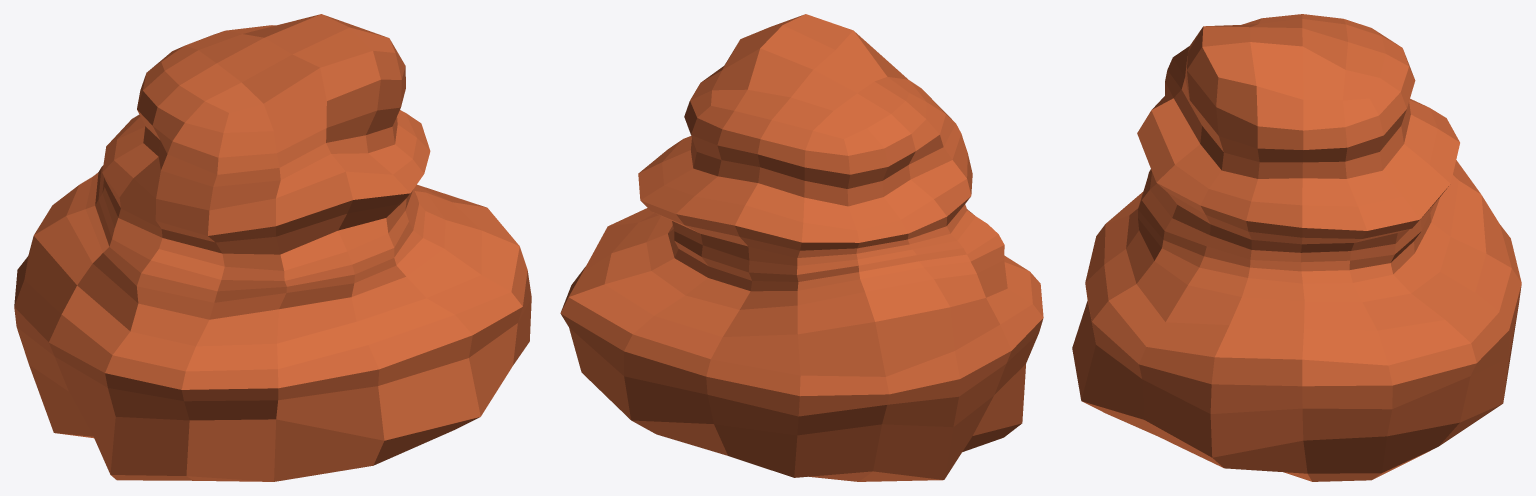
File: stone6.fbx
3 views of the same model, side by side, from view 1: azimuth 30°, elevation 25°; view 2: azimuth 150°, elevation 25°; view 3: azimuth 270°, elevation 25° (orthographic). The views are drawn at different scales.
Parts seen in each view (by area): view 1: Plane.006; view 2: Plane.006; view 3: Plane.006.
Boxes of the visible parts, box(x1,y1,x2,y2) form: Plane.006: box(14, 14, 531, 481); Plane.006: box(560, 14, 1043, 481); Plane.006: box(1072, 14, 1521, 481).
Size of the model in its own units: 572 by 497 by 502.
